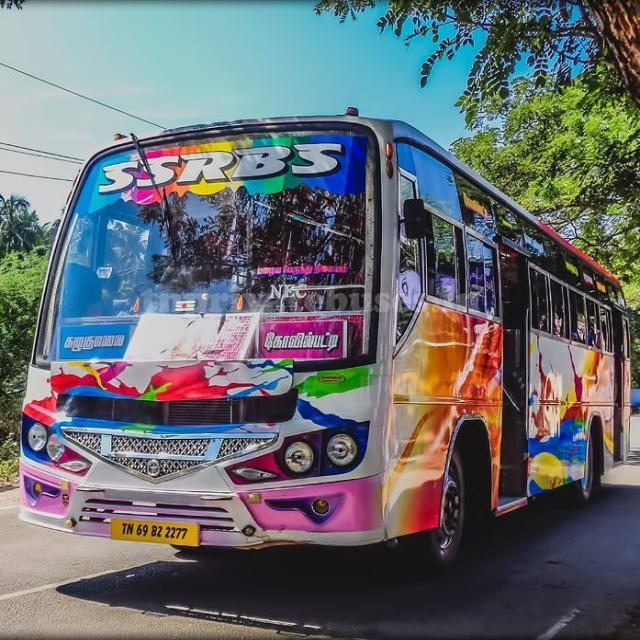Bus: (14, 110, 640, 573)
